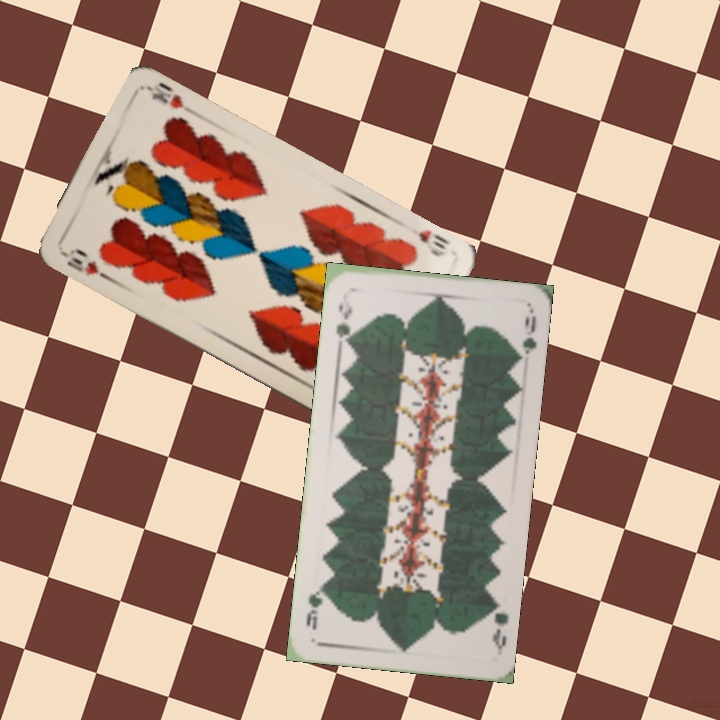G9: (484, 596, 511, 656), (332, 296, 355, 348)
H10: (56, 244, 110, 281), (413, 225, 453, 260)
